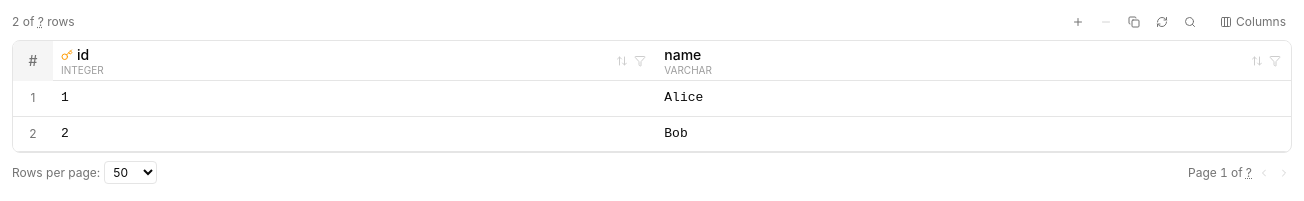
Scenario: DataTable › stage delete › delete button marks selected rows as deleted
The width and height of the screenshot is (1304, 201).
// Select a row
Click the 1st cell titled "Click to select" at (33, 99), box [13,81,53,116]
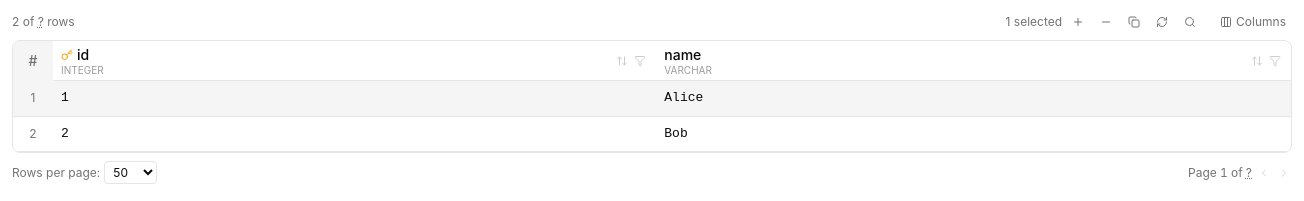
// Click delete button
Click the button titled "Mark 1 row(s) for deletion" at (1106, 22), box [1094,14,1118,30]
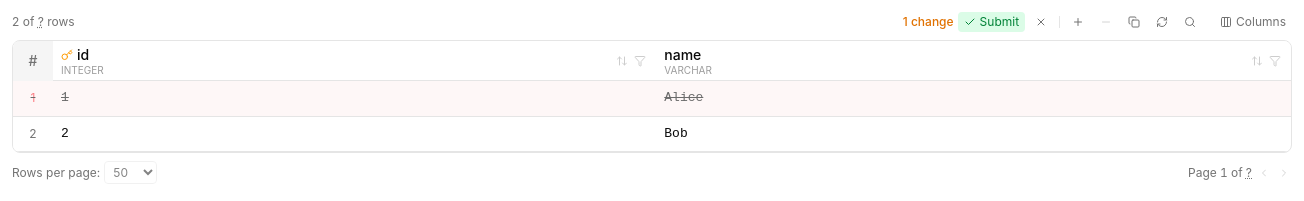
Now the 1st cell titled "Click to undelete" is shown, box [13,81,53,116]
